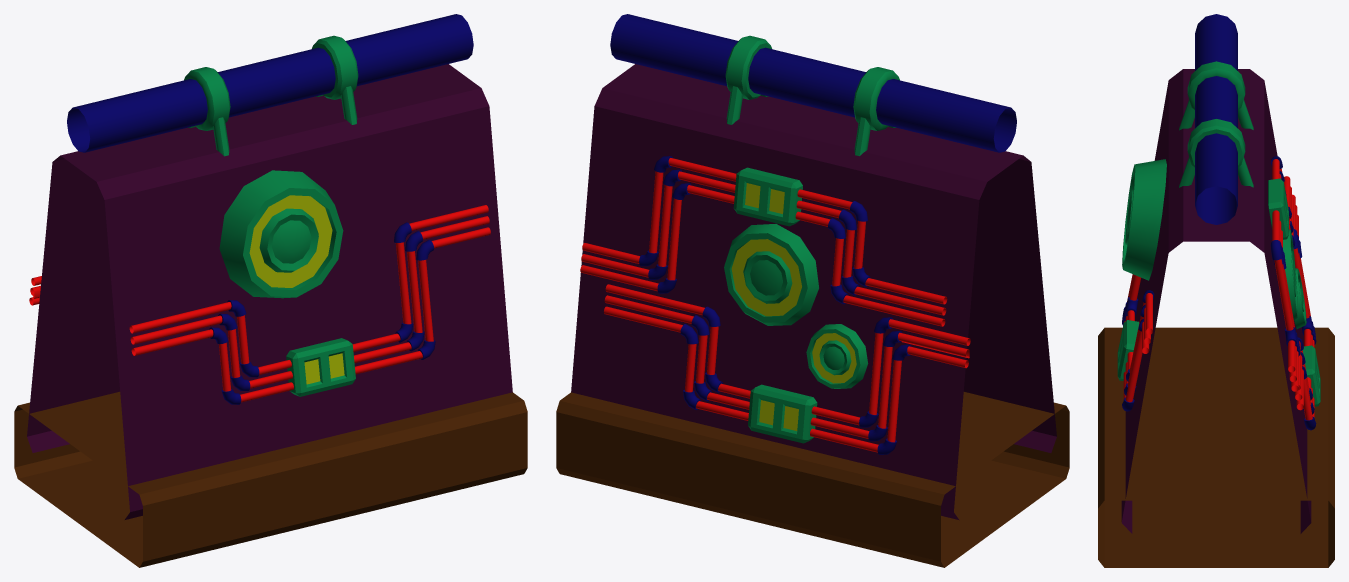
The model's file is OBJ_Mur_Cone.fbx.
3 views of the same model, side by side, from view 1: azimuth 30°, elevation 25°; view 2: azimuth 150°, elevation 25°; view 3: azimuth 270°, elevation 25° (orthographic). The views are drawn at different scales.
Parts seen in each view (by area): view 1: OBJ_Mur_Cone; view 2: OBJ_Mur_Cone; view 3: OBJ_Mur_Cone.
Part boxes in pixels (box(x1,y1,x2,y2)): OBJ_Mur_Cone: box(14, 14, 527, 567); OBJ_Mur_Cone: box(556, 14, 1069, 567); OBJ_Mur_Cone: box(1098, 14, 1334, 567).
Size of the model in its own units: 2290 by 2371 by 1311.
